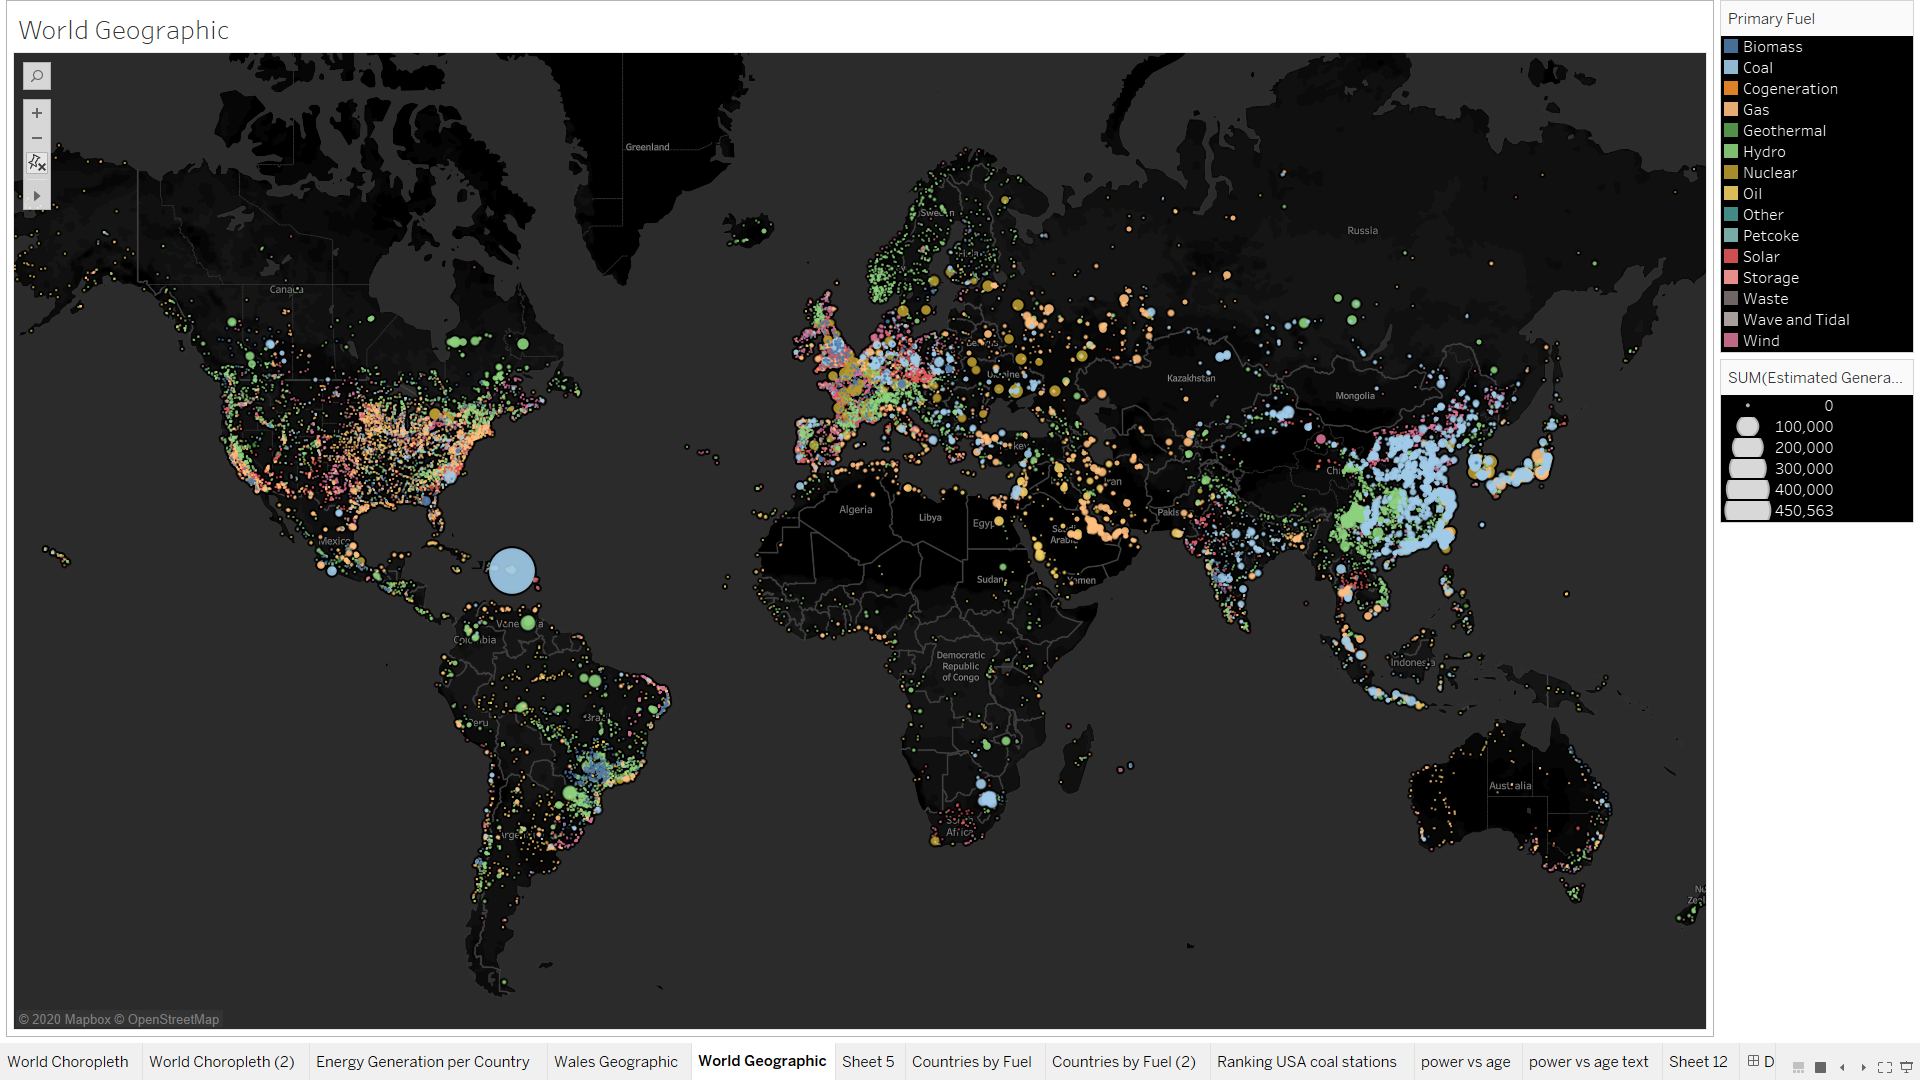

The dashboard page shown, as its layout file describes it:
{"tool":"tableau","page":{"name":"Dashboard 2","canvas":[1000,800],"ordinal":0},"visuals":[{"type":"worksheet","title":"World Geographic","mark":"Automatic","rows":["latitude"],"cols":["longitude"],"box":[8,8,824,784]},{"type":"legend","title":"World Geographic","param":"[federated.183wfg60y06ckk1guvf310vbiuqt].[none:primary_fuel:nk]","box":[832,8,160,261]},{"type":"legend","title":"World Geographic","param":"[federated.183wfg60y06ckk1guvf310vbiuqt].[sum:estimated_generation_gwh:qk]","box":[832,269,160,156]}]}

Visuals, with their boxes on the page's 1000x800 design canvas (x1, y1, x2, y2). These are canvas units, not pixel positions in the 1920x1080 screenshot, which may show the page scaled, cropped or inside an application window:
"World Geographic" worksheet: region(8, 8, 832, 792)
"World Geographic" legend: region(832, 8, 992, 269)
"World Geographic" legend: region(832, 269, 992, 425)
